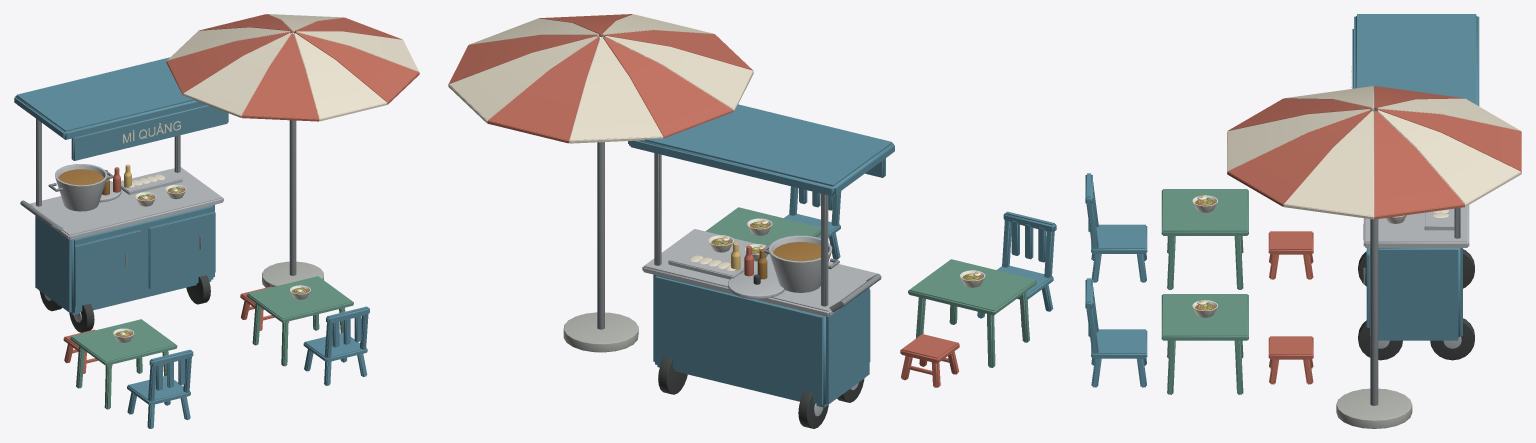
The model's file is MiQuangSpace.glb.
The picture shows the model from 3 angles, left to right: view 1: azimuth 30°, elevation 25°; view 2: azimuth 150°, elevation 25°; view 3: azimuth 270°, elevation 25°; orthographic projection. The views are drawn at different scales.
Visible parts, largest first — view 1: ST_MiQuangCounter_ST_blue.001, ST_StreetUmbrella_ST_red.001, ST_StreetUmbrella_ST_cream.001, ST_MiQuangCounter_ST_steel.001, ST_PlasticTableLow_ST_plastic_green.001, ST_PlasticTableLow_ST_plastic_green.002, ST_PlasticChairLow_ST_plastic_blue.002, ST_PlasticChairLow_ST_plastic_blue.001, ST_MiQuangCounter_PBK_Indochine_metal.001, ST_StreetUmbrella_PBK_Indochine_metal.001, ST_MiQuangCounter_ST_black.001, ST_Umbrella_Base.001 (+6 smaller); view 2: ST_MiQuangCounter_ST_blue.001, ST_StreetUmbrella_ST_cream.001, ST_StreetUmbrella_ST_red.001, ST_MiQuangCounter_ST_steel.001, ST_PlasticTableLow_ST_plastic_green.001, ST_PlasticChairLow_ST_plastic_blue.001, ST_Umbrella_Base.001, ST_MiQuangCounter_PBK_Indochine_metal.001, ST_PlasticTableLow_ST_plastic_green.002, ST_PlasticStoolLow_ST_plastic_red.001, ST_MiQuangCounter_ST_black.001, ST_StreetUmbrella_PBK_Indochine_metal.001 (+2 smaller); view 3: ST_MiQuangCounter_ST_blue.001, ST_StreetUmbrella_ST_cream.001, ST_StreetUmbrella_ST_red.001, ST_PlasticTableLow_ST_plastic_green.002, ST_PlasticTableLow_ST_plastic_green.001, ST_MiQuangCounter_ST_steel.001, ST_PlasticChairLow_ST_plastic_blue.002, ST_PlasticChairLow_ST_plastic_blue.001, ST_Umbrella_Base.001, ST_MiQuangCounter_ST_black.001, ST_StreetUmbrella_PBK_Indochine_metal.001, ST_PlasticStoolLow_ST_plastic_red.001 (+2 smaller).
Part boxes in pixels (left/top/right/bottom): ST_MiQuangCounter_ST_blue.001: left=14, top=57, right=228, bottom=315; ST_StreetUmbrella_ST_red.001: left=166, top=14, right=419, bottom=121; ST_StreetUmbrella_ST_cream.001: left=166, top=14, right=419, bottom=121; ST_MiQuangCounter_ST_steel.001: left=29, top=164, right=223, bottom=322; ST_PlasticTableLow_ST_plastic_green.001: left=70, top=319, right=177, bottom=409; ST_PlasticTableLow_ST_plastic_green.002: left=246, top=276, right=353, bottom=366; ST_PlasticChairLow_ST_plastic_blue.002: left=303, top=306, right=369, bottom=385; ST_PlasticChairLow_ST_plastic_blue.001: left=127, top=349, right=193, bottom=428; ST_MiQuangCounter_PBK_Indochine_metal.001: left=20, top=119, right=201, bottom=267; ST_StreetUmbrella_PBK_Indochine_metal.001: left=289, top=32, right=296, bottom=275; ST_MiQuangCounter_ST_black.001: left=39, top=275, right=210, bottom=332; ST_Umbrella_Base.001: left=262, top=261, right=323, bottom=287; ST_MiQuangCounter_ST_blue.001: left=628, top=104, right=894, bottom=407; ST_StreetUmbrella_ST_cream.001: left=448, top=14, right=753, bottom=143; ST_StreetUmbrella_ST_red.001: left=448, top=14, right=753, bottom=143; ST_MiQuangCounter_ST_steel.001: left=642, top=229, right=878, bottom=416; ST_PlasticTableLow_ST_plastic_green.001: left=908, top=259, right=1036, bottom=367; ST_PlasticChairLow_ST_plastic_blue.001: left=977, top=211, right=1056, bottom=326; ST_Umbrella_Base.001: left=563, top=312, right=638, bottom=352; ST_MiQuangCounter_PBK_Indochine_metal.001: left=654, top=153, right=881, bottom=312; ST_PlasticTableLow_ST_plastic_green.002: left=705, top=207, right=820, bottom=245; ST_PlasticStoolLow_ST_plastic_red.001: left=900, top=334, right=959, bottom=387; ST_MiQuangCounter_ST_black.001: left=658, top=274, right=864, bottom=428; ST_StreetUmbrella_PBK_Indochine_metal.001: left=597, top=36, right=604, bottom=329; ST_MiQuangCounter_ST_blue.001: left=1352, top=14, right=1479, bottom=340; ST_StreetUmbrella_ST_cream.001: left=1227, top=86, right=1521, bottom=219; ST_StreetUmbrella_ST_red.001: left=1227, top=86, right=1521, bottom=219; ST_PlasticTableLow_ST_plastic_green.002: left=1161, top=294, right=1248, bottom=394; ST_PlasticTableLow_ST_plastic_green.001: left=1161, top=189, right=1248, bottom=289; ST_MiQuangCounter_ST_steel.001: left=1363, top=205, right=1469, bottom=348; ST_PlasticChairLow_ST_plastic_blue.002: left=1085, top=278, right=1147, bottom=387; ST_PlasticChairLow_ST_plastic_blue.001: left=1085, top=173, right=1147, bottom=282; ST_Umbrella_Base.001: left=1336, top=388, right=1412, bottom=428; ST_MiQuangCounter_ST_black.001: left=1358, top=249, right=1474, bottom=360; ST_StreetUmbrella_PBK_Indochine_metal.001: left=1370, top=109, right=1378, bottom=405; ST_PlasticStoolLow_ST_plastic_red.001: left=1268, top=231, right=1313, bottom=279.
Size of the model in its own units: 3.84 by 2.38 by 3.1.
